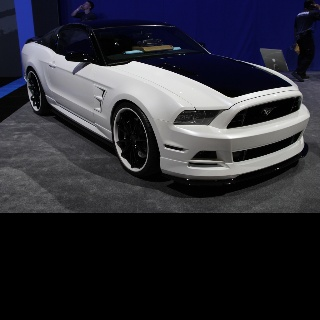without_mask: (83, 0, 90, 8)
